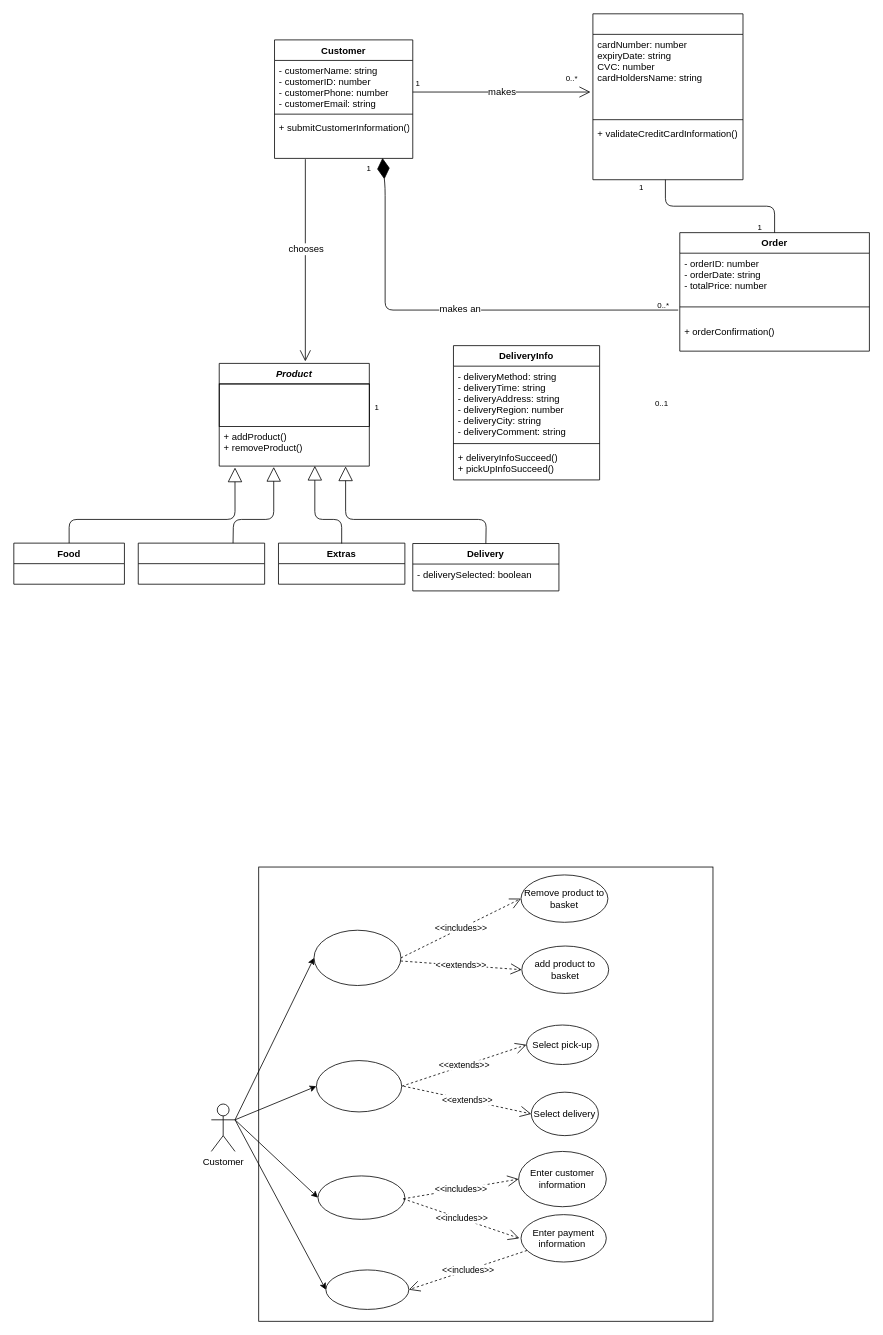
Image size: 883x1335. Some labels were removed from this diagram. The shapes that lost their labels are listed below. From the top down, each one's box as (x1, y1, x2, y2) in pixels, then its label:
(592, 13, 743, 180): Payment
(218, 383, 369, 427): - productName: string - productID: number - productPrice: number
(137, 542, 265, 584): Drinks
(313, 929, 401, 986): Select products
(316, 1060, 402, 1112): Select delivery method
(317, 1175, 405, 1219): Place order
(325, 1269, 409, 1309): Confirm order
